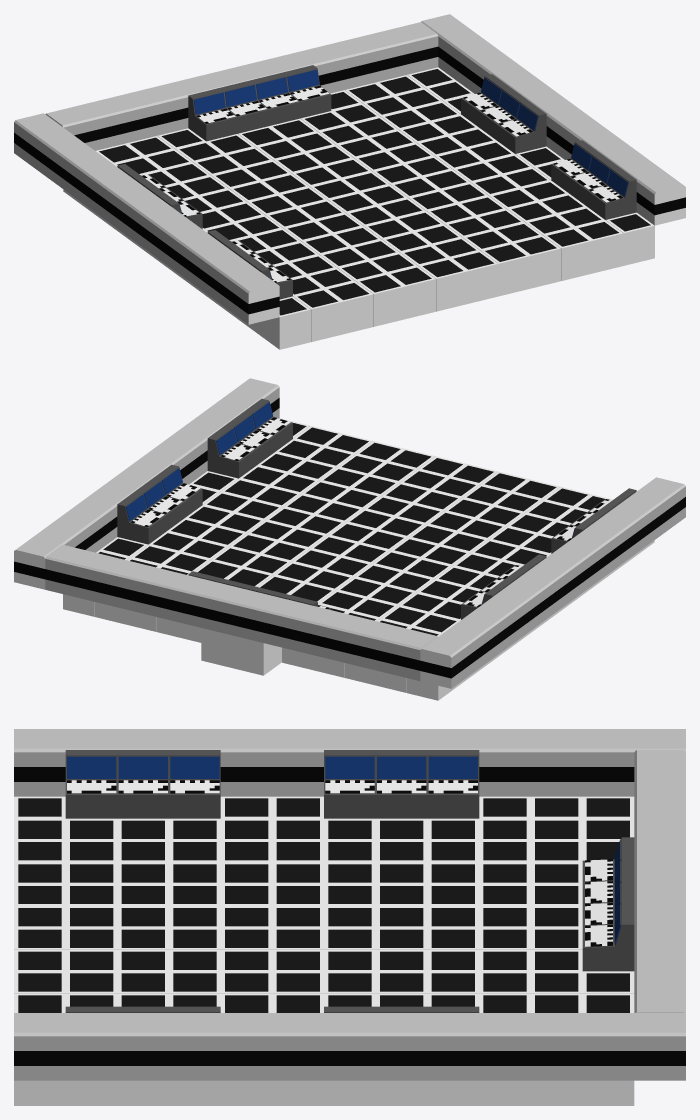
Rendered from bridgeMedium1.fbx.
The picture shows the model from 3 angles, top to bottom: view 1: azimuth 30°, elevation 25°; view 2: azimuth 150°, elevation 25°; view 3: azimuth 270°, elevation 25°; orthographic projection. The views are drawn at different scales.
Visible parts, largest first — view 1: Cube.183, Cube.192, Cube.013, Cube.002, Cube.007, Cube.159, Cube.020, Cube.019, Cube.015, Cube.016, Cube.023, Cube.017 (+148 smaller); view 2: Cube.187, Cube.008, Cube.158, Cube.173, Cube.001, Cube.162, Cube.166, Cube.168, Cube.171, Cube.188, Cube.003, Cube.170 (+137 smaller); view 3: Cube.005, Cube.163, Cube.174, Cube.179, Cube.193, Cube.202, Cube.205, Cube.207, Cube.004, Cube.006, Cube.167, Cube.164 (+157 smaller).
Part boxes in pixels (<box>): Cube.183: <box>230,272,279,324</box>; Cube.192: <box>636,172,685,225</box>; Cube.013: <box>188,88,237,141</box>; Cube.002: <box>261,296,310,349</box>; Cube.007: <box>587,166,636,219</box>; Cube.159: <box>497,100,546,153</box>; Cube.020: <box>418,258,467,311</box>; Cube.019: <box>481,243,529,296</box>; Cube.015: <box>293,288,342,341</box>; Cube.016: <box>356,273,404,326</box>; Cube.023: <box>543,228,592,280</box>; Cube.017: <box>325,281,373,334</box>; Cube.187: <box>420,636,469,688</box>; Cube.008: <box>207,425,256,478</box>; Cube.158: <box>117,491,166,544</box>; Cube.173: <box>389,628,437,680</box>; Cube.001: <box>232,590,280,642</box>; Cube.162: <box>45,544,93,597</box>; Cube.166: <box>264,598,311,650</box>; Cube.168: <box>170,575,217,627</box>; Cube.171: <box>295,605,343,658</box>; Cube.188: <box>14,536,62,589</box>; Cube.003: <box>201,582,249,635</box>; Cube.170: <box>326,613,374,665</box>; Cube.005: <box>65,750,117,818</box>; Cube.163: <box>427,750,479,818</box>; Cube.174: <box>582,729,634,796</box>; Cube.179: <box>220,729,272,796</box>; Cube.193: <box>65,1013,117,1080</box>; Cube.202: <box>220,1013,272,1080</box>; Cube.205: <box>427,1013,479,1080</box>; Cube.207: <box>582,1013,634,1080</box>; Cube.004: <box>117,750,168,818</box>; Cube.006: <box>169,750,220,818</box>; Cube.167: <box>376,750,427,818</box>; Cube.164: <box>324,750,375,818</box>.
Size of the model in its own units: 2800 by 400 by 2600.
